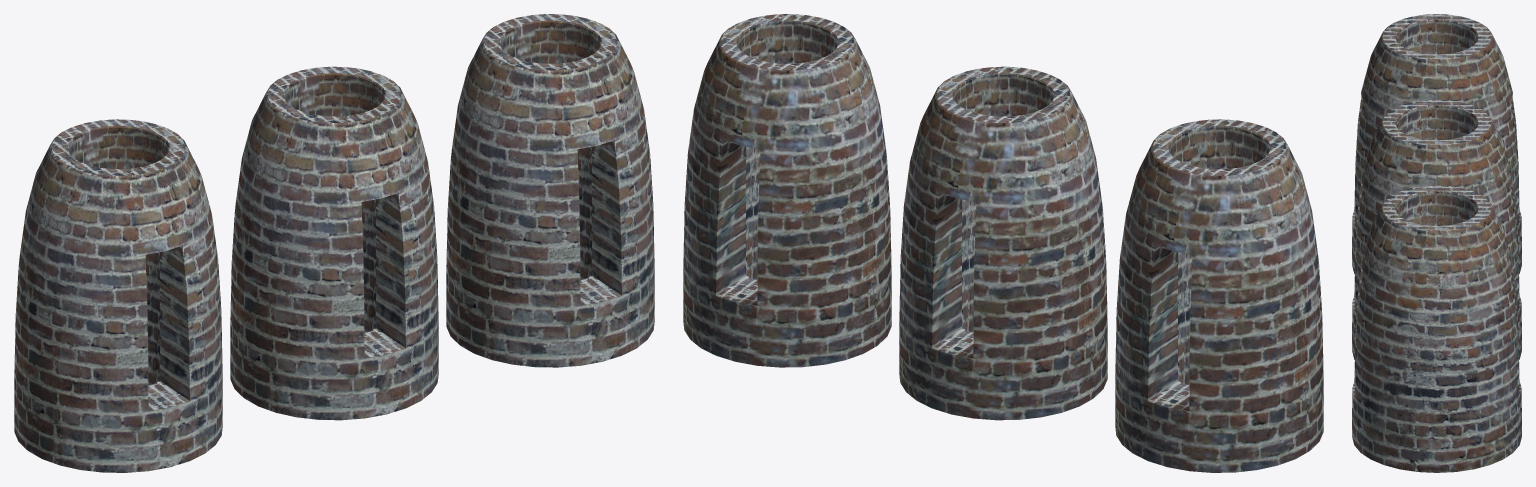
Rendered from BongSuDae.FBX.
3 renders of one model, left to right at view 1: azimuth 30°, elevation 25°; view 2: azimuth 150°, elevation 25°; view 3: azimuth 270°, elevation 25°, orthographic. The views are drawn at different scales.
Visible parts, largest first — view 1: BongSuDae002, BongSuDae001, BongSuDae; view 2: BongSuDae002, BongSuDae001, BongSuDae; view 3: BongSuDae002, BongSuDae001, BongSuDae.
Part boxes in pixels (box(x1,y1,x2,y2)): BongSuDae002: box(446, 14, 654, 367); BongSuDae001: box(230, 66, 438, 420); BongSuDae: box(14, 119, 222, 472); BongSuDae002: box(683, 14, 891, 367); BongSuDae001: box(899, 66, 1107, 420); BongSuDae: box(1115, 119, 1323, 472); BongSuDae002: box(1352, 185, 1521, 472); BongSuDae001: box(1352, 99, 1521, 359); BongSuDae: box(1352, 14, 1521, 274).
Bounding box in the file's own units: 0.0678 × 0.0297 × 0.02.
Materials: 1 (1 with a texture image).
